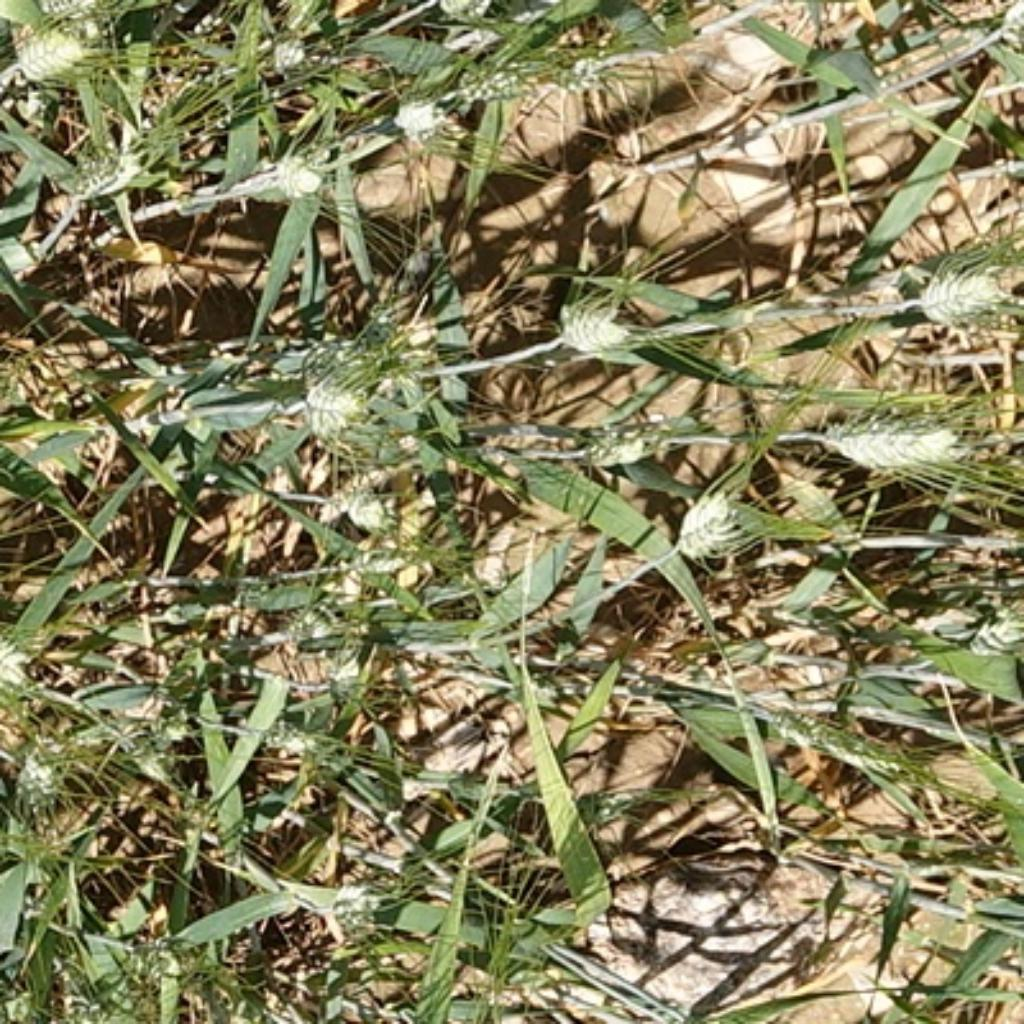0-0: (819, 389, 983, 476), (765, 691, 913, 778), (117, 924, 235, 1013), (92, 683, 192, 788), (515, 32, 641, 112), (337, 506, 460, 586), (0, 709, 89, 806), (911, 250, 1013, 332), (250, 701, 360, 773), (568, 414, 670, 491), (232, 130, 337, 204), (294, 366, 386, 448), (670, 476, 755, 555), (53, 128, 143, 199), (5, 15, 99, 81), (552, 286, 640, 353), (250, 20, 337, 81), (320, 465, 401, 529), (279, 599, 368, 657), (309, 870, 386, 936), (957, 604, 1024, 670), (304, 657, 394, 704), (386, 84, 455, 143), (0, 619, 40, 709), (30, 0, 117, 23)
